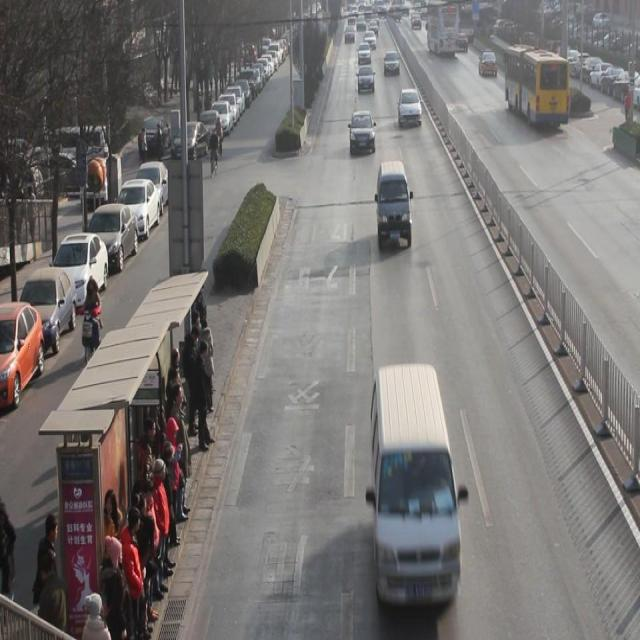car: (349, 110, 376, 156), (398, 87, 422, 130), (358, 64, 376, 96), (478, 50, 498, 78), (384, 50, 400, 76)
truck: (370, 364, 461, 613), (377, 161, 412, 253)
van: (502, 48, 566, 130)
